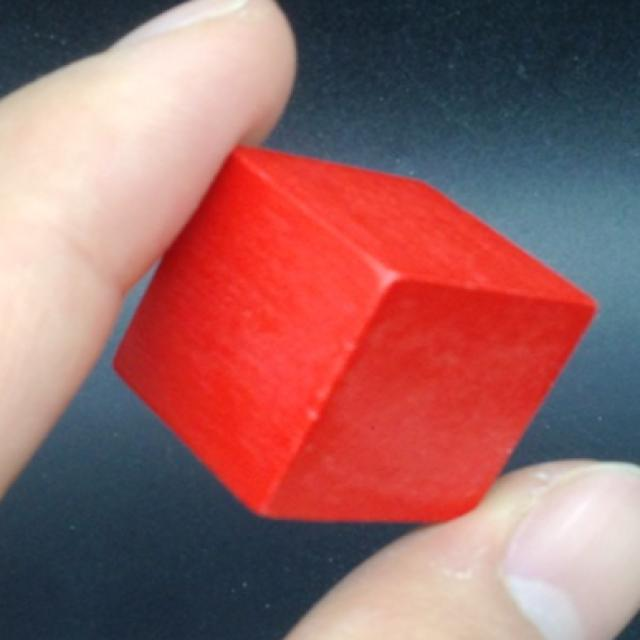red cube: (111, 146, 599, 527)
